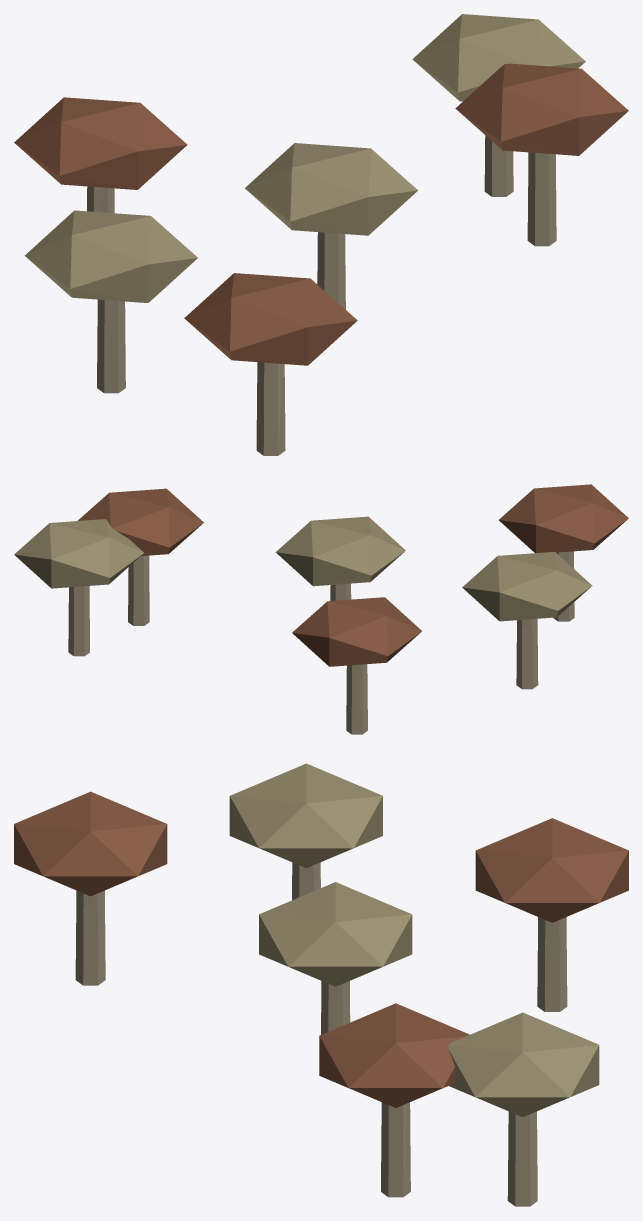
Rendered from forest_mushrooms.glb.
3 renders of one model, top to bottom at view 1: azimuth 30°, elevation 25°; view 2: azimuth 150°, elevation 25°; view 3: azimuth 270°, elevation 25°, orthographic. The views are drawn at different scales.
Visible parts, largest first — view 1: world-scenery/forest_mushrooms; view 2: world-scenery/forest_mushrooms; view 3: world-scenery/forest_mushrooms.
Part boxes in pixels (x1,y1,x2,y2): world-scenery/forest_mushrooms: (14, 14, 628, 455); world-scenery/forest_mushrooms: (14, 484, 628, 734); world-scenery/forest_mushrooms: (14, 763, 628, 1206).
Size of the model in its own units: 1.24 by 0.3095 by 1.02.
